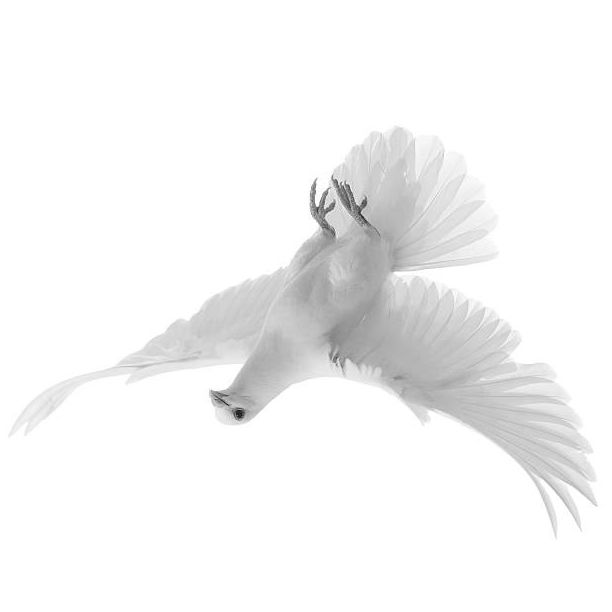Bird: (8, 121, 603, 544)
